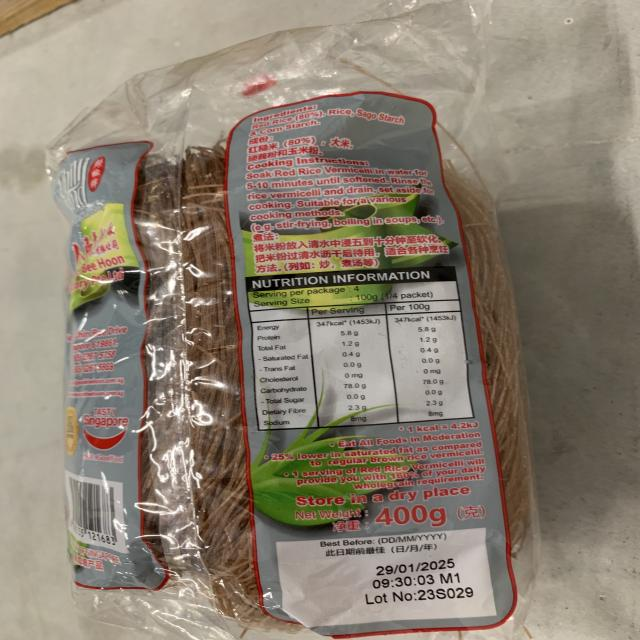object_name: (59, 110, 506, 626)
